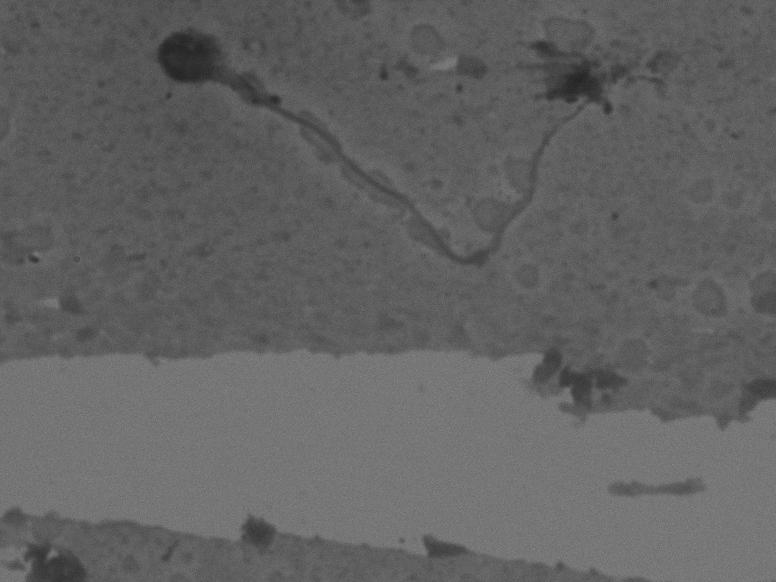Abnormal: (132, 14, 665, 287)
